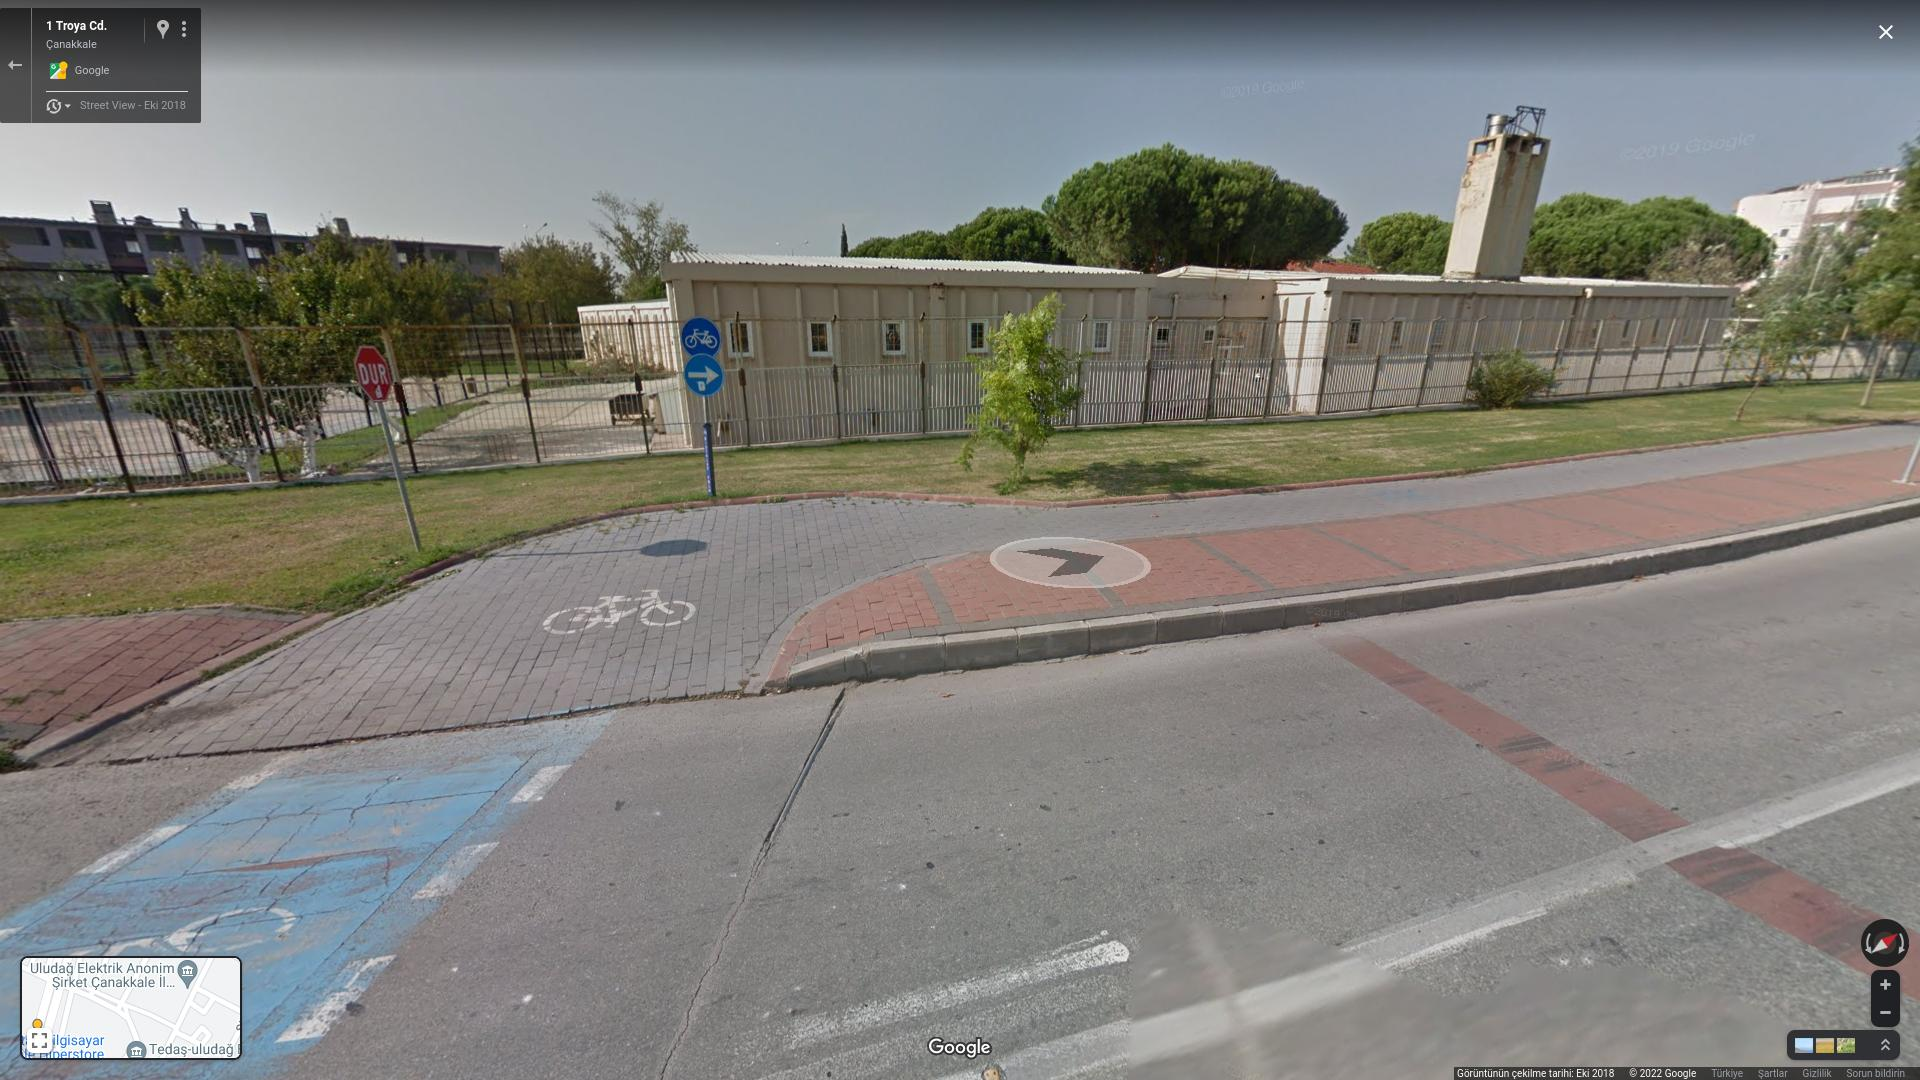stop: (357, 347, 396, 400)
turnright: (684, 356, 719, 394)
